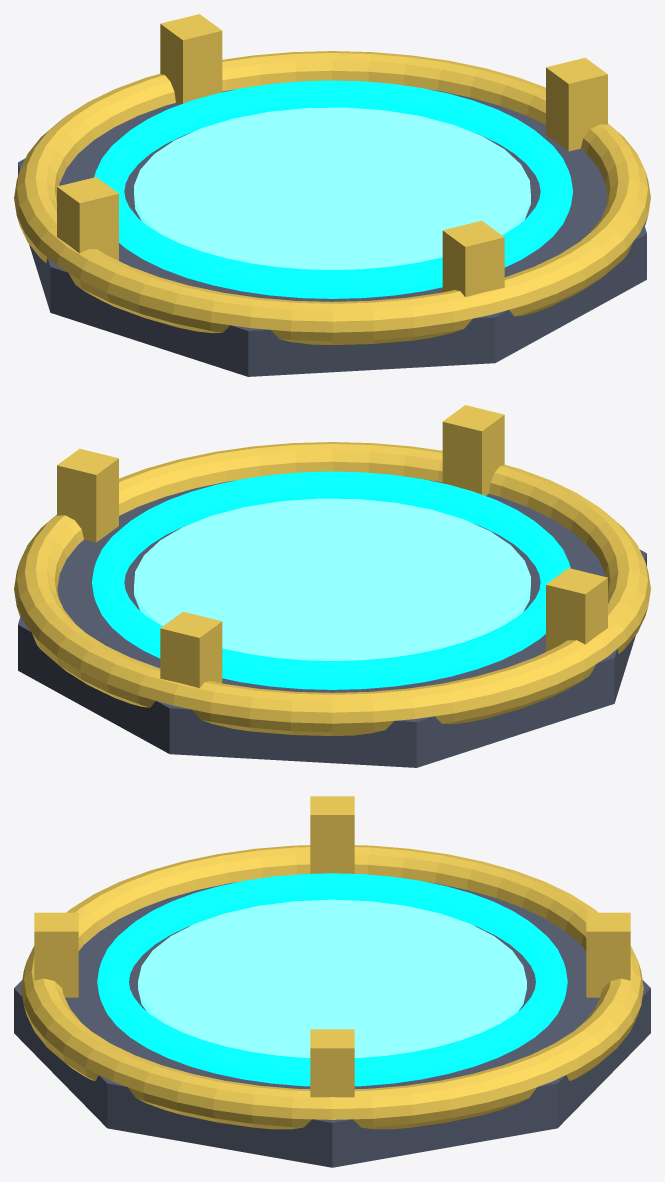
Rendered from exit-portal.glb.
3 renders of one model, top to bottom at view 1: azimuth 30°, elevation 25°; view 2: azimuth 150°, elevation 25°; view 3: azimuth 270°, elevation 25°, orthographic. The views are drawn at different scales.
Visible parts, largest first — view 1: Cylinder.001, Torus, Cylinder, Torus.001, Cube.001, Cube, Cube.002, Cube.003; view 2: Cylinder.001, Torus, Cylinder, Torus.001, Cube.003, Cube, Cube.002, Cube.001; view 3: Cylinder.001, Torus, Cylinder, Torus.001, Cube.002, Cube.001, Cube.003, Cube.
Part boxes in pixels (x1,y1,x2,y2): Cylinder.001: (134, 107, 530, 269); Torus: (14, 51, 650, 344); Cylinder: (18, 89, 646, 376); Torus.001: (94, 80, 572, 298); Cube.001: (160, 14, 222, 104); Cube: (546, 57, 607, 151); Cube.002: (57, 177, 118, 260); Cube.003: (442, 220, 504, 296); Cylinder.001: (134, 498, 530, 660); Torus: (14, 442, 650, 735); Cylinder: (18, 480, 646, 767); Torus.001: (92, 471, 570, 689); Cube.003: (442, 405, 504, 495); Cube: (57, 448, 118, 542); Cube.002: (546, 568, 607, 651); Cube.001: (160, 611, 222, 687); Cylinder.001: (138, 899, 526, 1057); Torus: (21, 845, 643, 1129); Cylinder: (14, 882, 650, 1167); Torus.001: (97, 873, 567, 1086); Cube.002: (310, 796, 354, 873); Cube.001: (586, 912, 630, 997); Cube.003: (34, 912, 78, 997); Cube: (310, 1029, 354, 1097).
Bounding box in the file's own units: 1.8 × 0.346 × 1.8.
